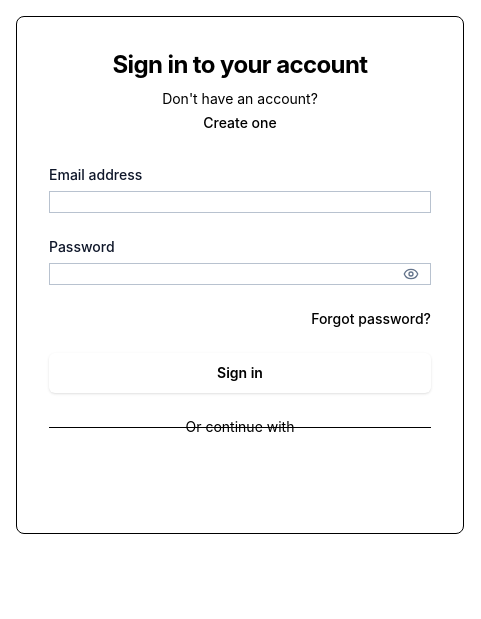
Test: AccountLoginPage › displays inactive account message on 400 with PENDING status
This screenshot has width=481, height=619.
In the field labelled "Email address": (240, 202) [49,191,431,213], type "test@example.com"
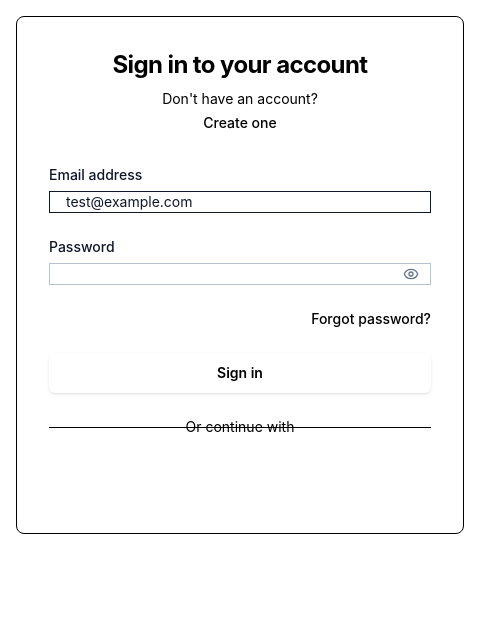
In the password field labelled "Password": (240, 274) [49,263,431,285], type "somepassword"
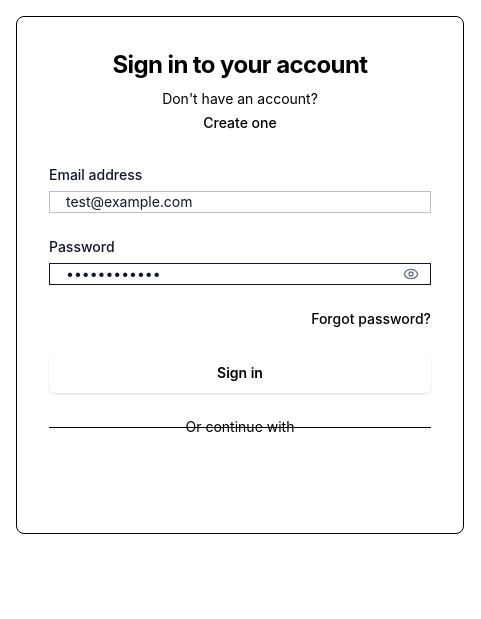
Click the button "Sign in": (240, 373) [49,353,431,393]
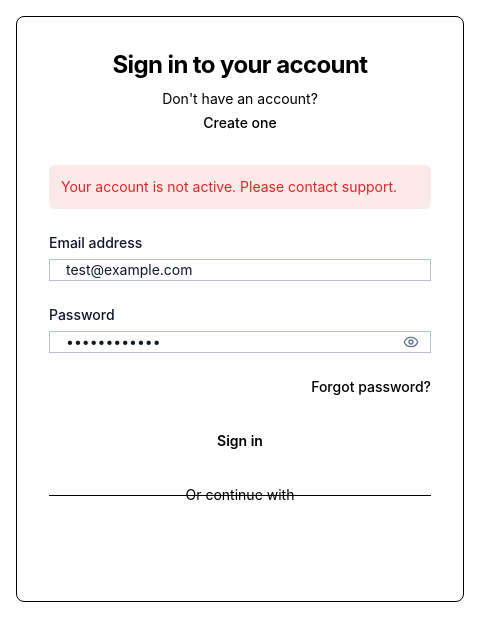
Now the message reads "Your account is not active. Please contact support.", box [61,178,397,195]
